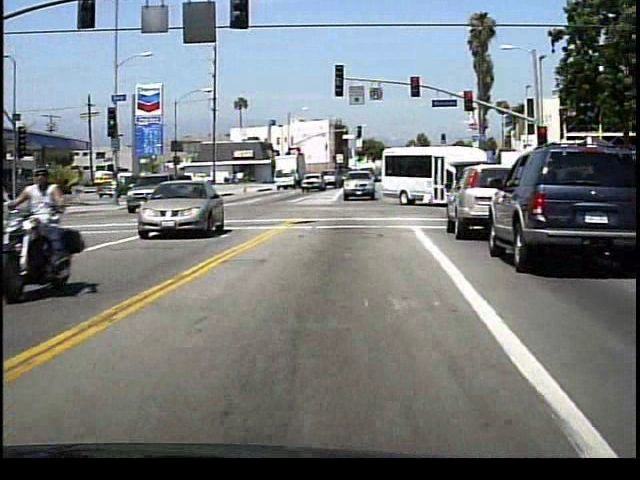person: (24, 156, 95, 290)
